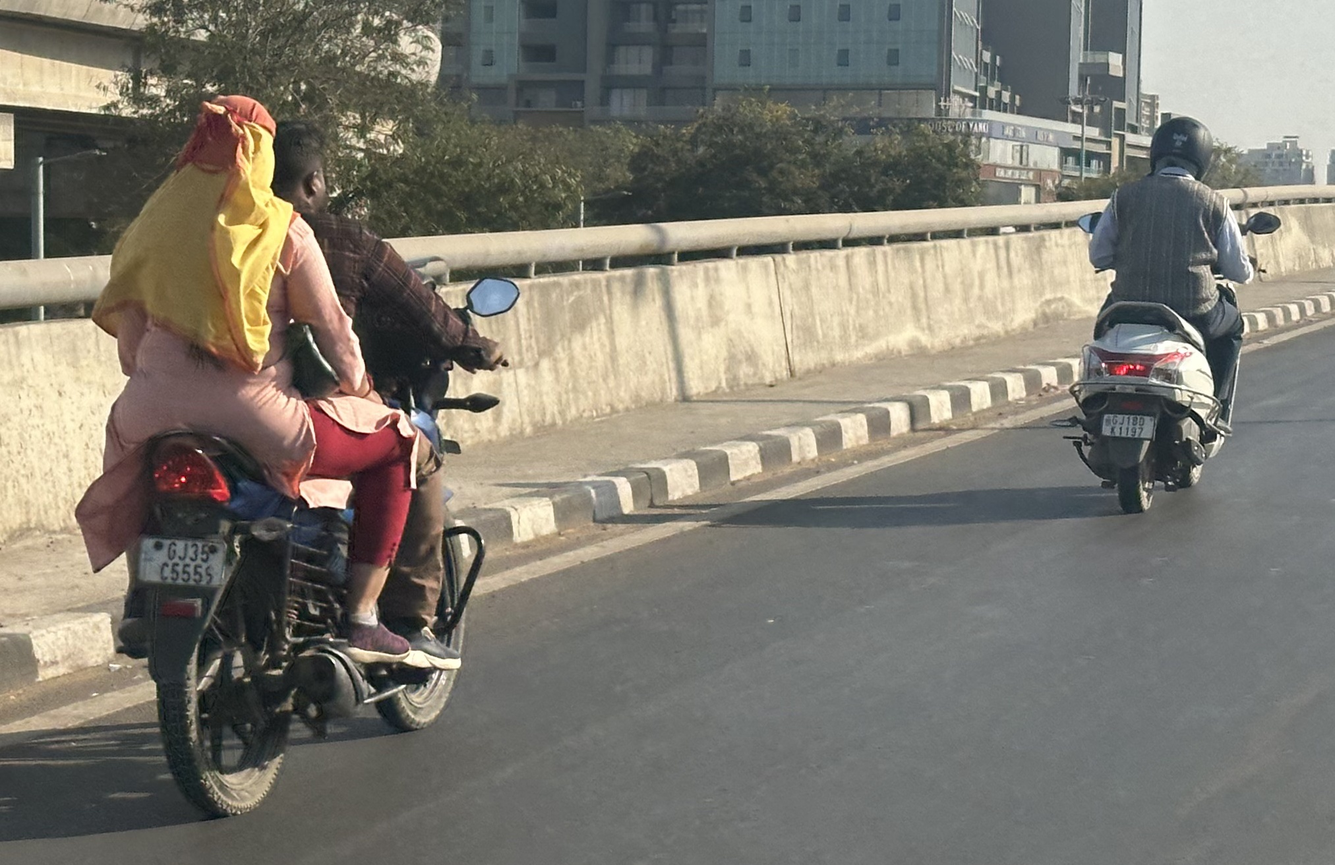BikeWithRider: (74, 90, 528, 823), (1065, 113, 1280, 515)
Helmet: (1141, 113, 1218, 188)
NoHelmet: (181, 92, 283, 201), (261, 117, 336, 225)
